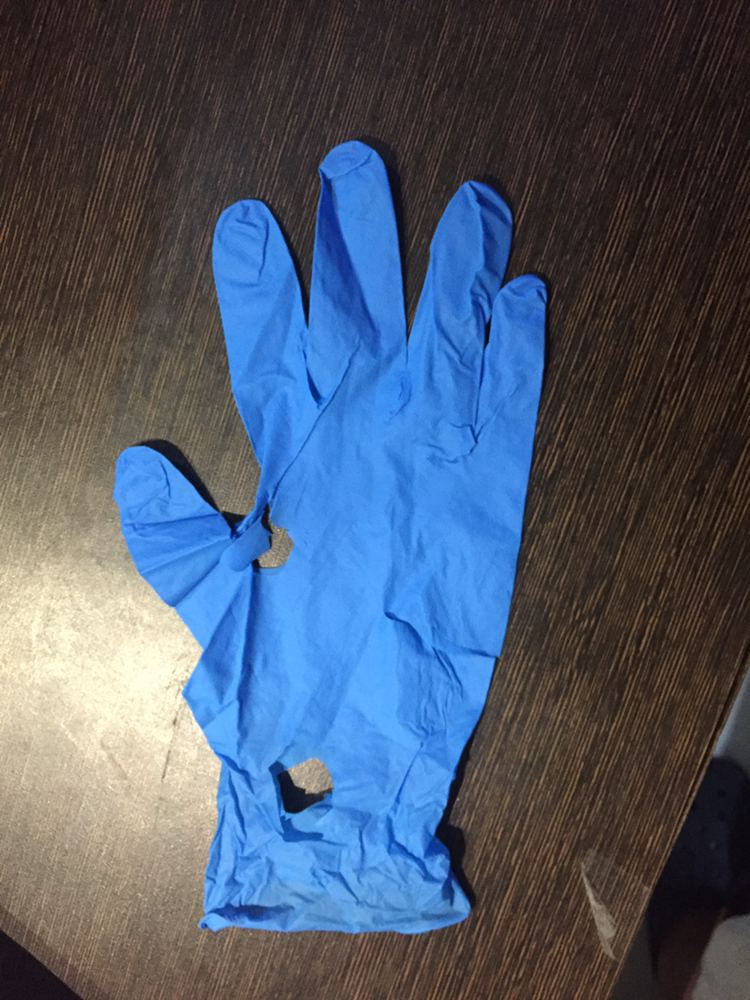defected: (57, 140, 582, 931)
